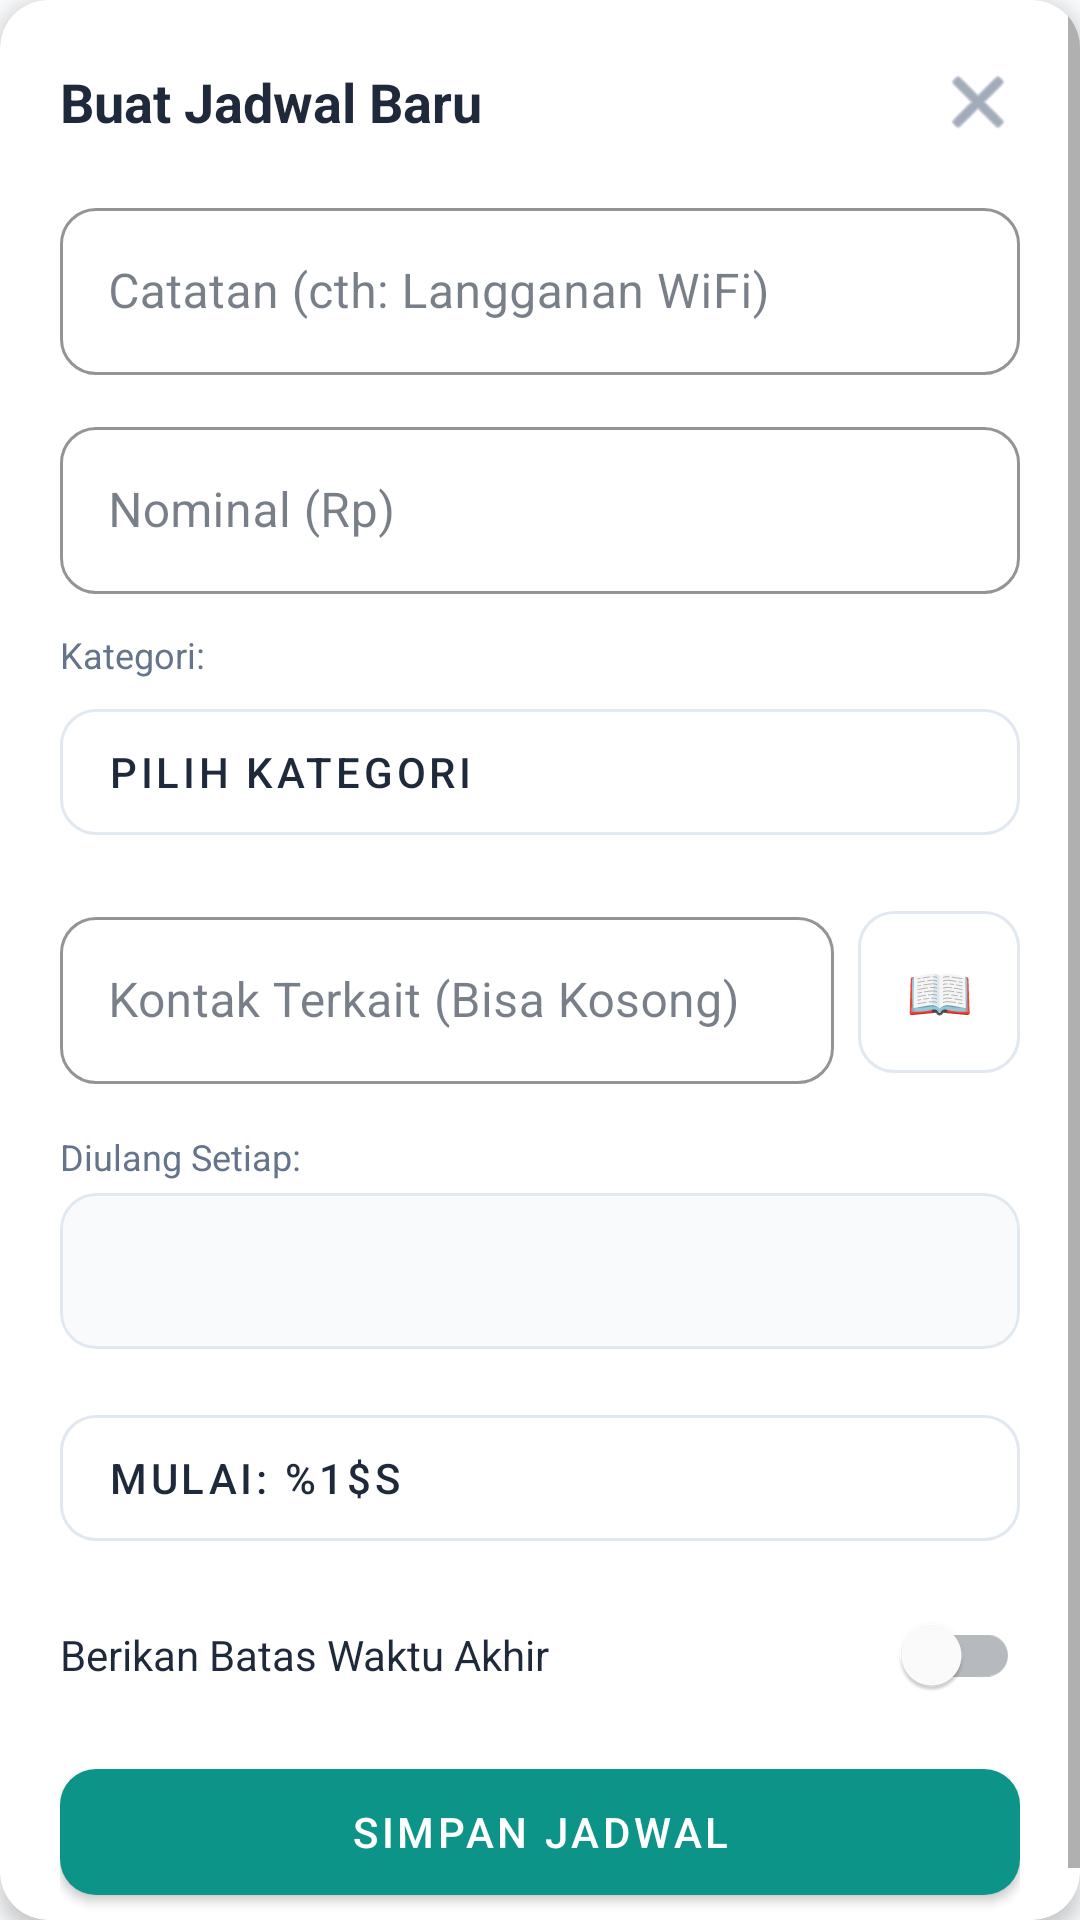

Icon click points for this 1080 x 1920 phone screenshot, format (x=x, y=y):
close clear cancel: (x=978, y=102)
